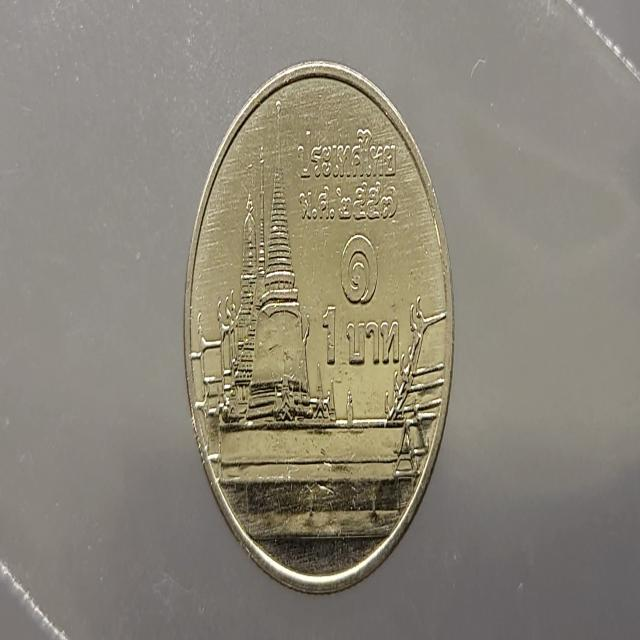1 Bath: (182, 49, 463, 616)
